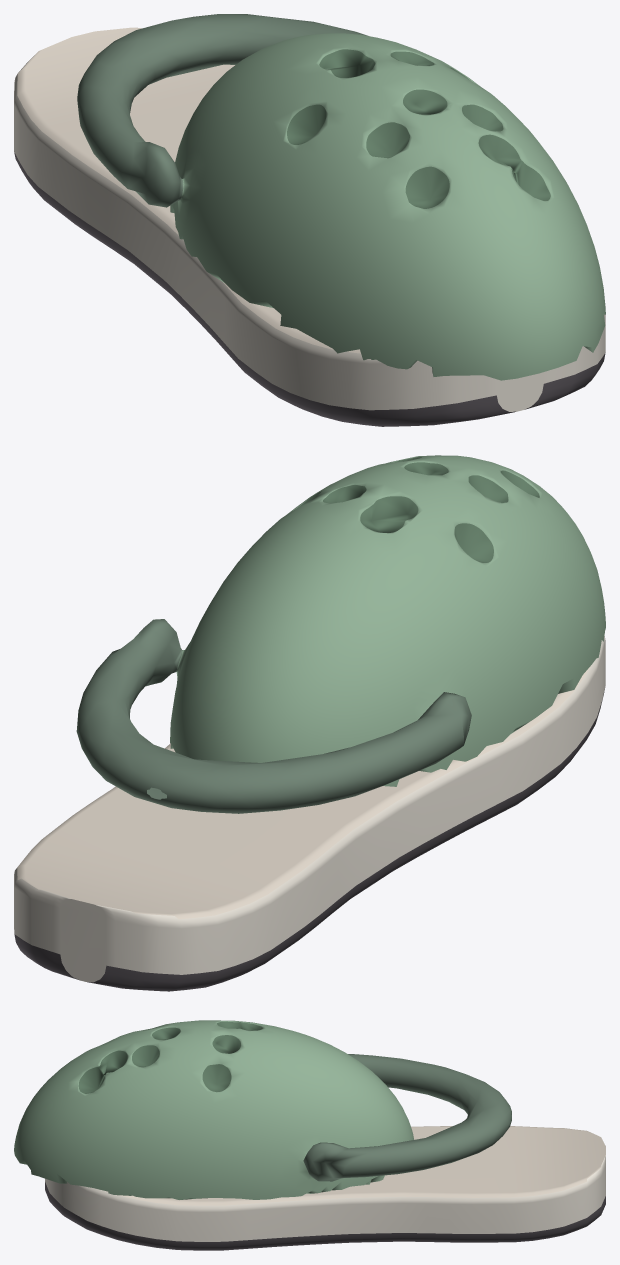
Rendered from w_slipper@slipper_croc.glb.
The picture shows the model from 3 angles, top to bottom: view 1: azimuth 30°, elevation 25°; view 2: azimuth 150°, elevation 25°; view 3: azimuth 270°, elevation 25°; orthographic projection. The views are drawn at different scales.
Parts seen in each view (by area): view 1: toe_wzA__upper__p8fae94, sole_wzB__sole__pe9e4da, toe_wzA__strap__p6b7f70, sole_wzN__bed__pdbd2c6, toe_wzA__vent__p5f7a64, sole_wzB__rubber__p5f5a60; view 2: toe_wzA__upper__p8fae94, sole_wzB__sole__pe9e4da, sole_wzN__bed__pdbd2c6, toe_wzA__strap__p6b7f70, sole_wzB__rubber__p5f5a60, toe_wzA__vent__p5f7a64; view 3: toe_wzA__upper__p8fae94, sole_wzB__sole__pe9e4da, sole_wzN__bed__pdbd2c6, toe_wzA__strap__p6b7f70, sole_wzB__rubber__p5f5a60, toe_wzA__vent__p5f7a64.
Boxes of the visible parts, left/top/right/bottom form: toe_wzA__upper__p8fae94: left=170, top=33, right=605, bottom=380; sole_wzB__sole__pe9e4da: left=14, top=55, right=605, bottom=411; toe_wzA__strap__p6b7f70: left=77, top=14, right=367, bottom=207; sole_wzN__bed__pdbd2c6: left=17, top=27, right=360, bottom=353; toe_wzA__vent__p5f7a64: left=287, top=49, right=550, bottom=208; sole_wzB__rubber__p5f5a60: left=14, top=152, right=605, bottom=426; toe_wzA__upper__p8fae94: left=170, top=455, right=605, bottom=786; sole_wzB__sole__pe9e4da: left=14, top=635, right=605, bottom=982; sole_wzN__bed__pdbd2c6: left=17, top=665, right=591, bottom=919; toe_wzA__strap__p6b7f70: left=76, top=619, right=471, bottom=813; sole_wzB__rubber__p5f5a60: left=14, top=689, right=604, bottom=991; toe_wzA__vent__p5f7a64: left=297, top=457, right=539, bottom=562; toe_wzA__upper__p8fae94: left=14, top=1020, right=413, bottom=1199; sole_wzB__sole__pe9e4da: left=45, top=1138, right=605, bottom=1241; sole_wzN__bed__pdbd2c6: left=104, top=1126, right=605, bottom=1205; toe_wzA__strap__p6b7f70: left=303, top=1054, right=511, bottom=1181; sole_wzB__rubber__p5f5a60: left=45, top=1182, right=605, bottom=1250; toe_wzA__vent__p5f7a64: left=78, top=1021, right=262, bottom=1093.
Size of the model in its own units: 0.1264 by 0.0999 by 0.2944.
